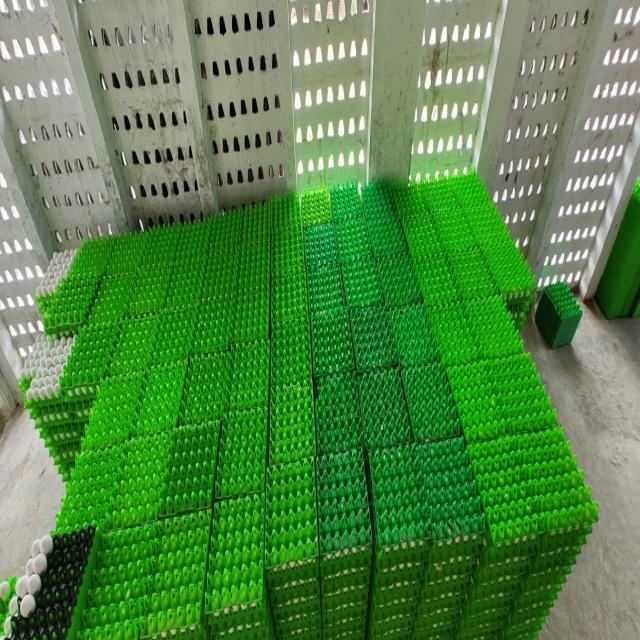egg_tray: (460, 427, 598, 637), (372, 439, 484, 636), (394, 178, 534, 300), (469, 428, 597, 542), (415, 439, 484, 633), (505, 505, 597, 633), (368, 444, 428, 633), (56, 432, 171, 530), (316, 449, 372, 636), (4, 527, 99, 637), (20, 335, 92, 479), (447, 353, 557, 442), (266, 459, 321, 635), (78, 522, 158, 639), (204, 493, 268, 636), (458, 537, 536, 639), (147, 510, 210, 636), (415, 438, 484, 545), (368, 445, 428, 565), (36, 241, 113, 334), (316, 449, 371, 575), (266, 459, 318, 585), (56, 445, 124, 531), (414, 544, 475, 637), (111, 433, 171, 527), (161, 423, 219, 514), (2, 534, 53, 636), (82, 372, 144, 450), (215, 407, 268, 498), (402, 364, 461, 441), (60, 323, 120, 397), (358, 369, 412, 450), (35, 402, 90, 479), (22, 335, 74, 416), (132, 360, 187, 435), (270, 379, 316, 464), (315, 372, 362, 454), (482, 239, 534, 313), (35, 397, 91, 463), (450, 174, 506, 239), (180, 352, 230, 424), (390, 181, 441, 249), (43, 274, 99, 335), (466, 297, 522, 357), (170, 220, 212, 298), (150, 298, 200, 363), (429, 302, 478, 367), (350, 305, 397, 371), (110, 313, 160, 374), (390, 304, 439, 366), (228, 339, 270, 409), (536, 283, 582, 346), (70, 236, 146, 274), (270, 319, 312, 386), (312, 310, 354, 376), (448, 244, 497, 298), (270, 192, 303, 272), (460, 196, 512, 246), (270, 269, 308, 333), (138, 223, 188, 271), (34, 250, 76, 307), (414, 252, 458, 306), (378, 253, 422, 306), (175, 221, 212, 284), (88, 274, 135, 323), (193, 297, 234, 353), (342, 252, 383, 308), (138, 225, 186, 272), (432, 203, 476, 254), (334, 207, 372, 265), (129, 264, 172, 315), (366, 207, 406, 260), (402, 209, 443, 260), (373, 213, 406, 276), (270, 269, 308, 323), (165, 258, 206, 308), (232, 288, 269, 342), (202, 247, 239, 300), (50, 423, 83, 481), (307, 264, 345, 313), (238, 234, 270, 291), (104, 233, 148, 274), (238, 242, 270, 293), (304, 223, 338, 271), (422, 179, 459, 223), (390, 183, 428, 225), (272, 223, 304, 272), (270, 194, 301, 243), (362, 181, 395, 227), (209, 210, 243, 252), (240, 202, 272, 244), (330, 183, 364, 221), (300, 188, 332, 227), (362, 181, 394, 220), (330, 184, 362, 220), (506, 294, 532, 331), (0, 576, 18, 624), (458, 271, 472, 289), (236, 216, 246, 229), (356, 559, 367, 567), (376, 470, 380, 481), (122, 369, 130, 373), (372, 209, 376, 217), (244, 221, 250, 225), (494, 274, 498, 280), (514, 271, 522, 274), (466, 566, 471, 570), (346, 560, 350, 564), (209, 278, 217, 280), (52, 258, 55, 263), (450, 203, 456, 205), (523, 308, 526, 312), (470, 274, 474, 277), (448, 273, 452, 275), (428, 198, 432, 200), (398, 486, 406, 487), (45, 435, 46, 442), (480, 263, 482, 266), (430, 549, 432, 552), (527, 276, 530, 278), (40, 429, 42, 432), (97, 534, 99, 536), (204, 253, 206, 254), (116, 312, 117, 314), (369, 207, 371, 208), (389, 539, 391, 540), (409, 243, 410, 244), (147, 243, 148, 244), (323, 578, 323, 578), (412, 252, 412, 253), (70, 460, 72, 460), (196, 314, 196, 316), (78, 390, 81, 390), (476, 255, 476, 256), (585, 492, 585, 493), (390, 486, 390, 487), (403, 546, 403, 548), (192, 292, 194, 292), (523, 257, 523, 261), (383, 291, 383, 296), (370, 231, 370, 234)
